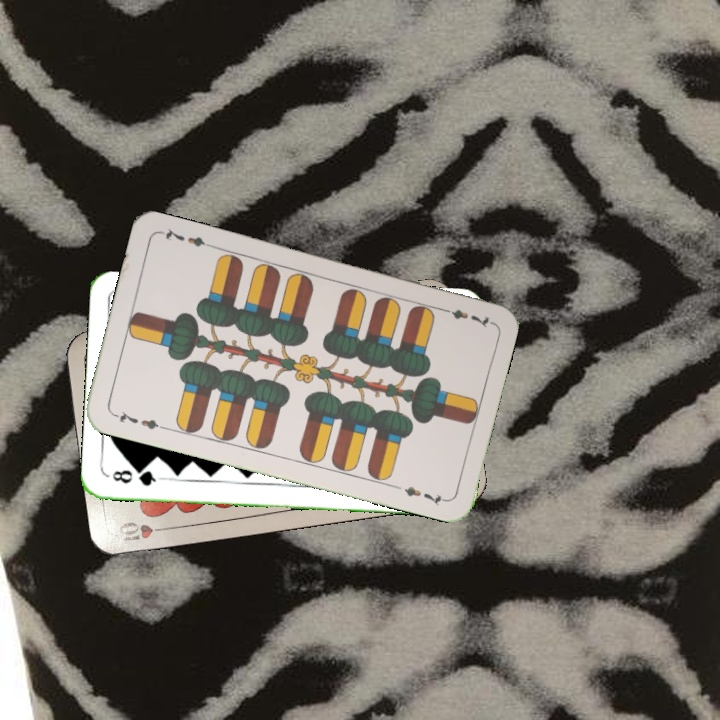E7: (435, 303, 493, 330), (109, 407, 167, 432)
G8: (108, 465, 165, 488)
H10: (114, 517, 174, 546)
